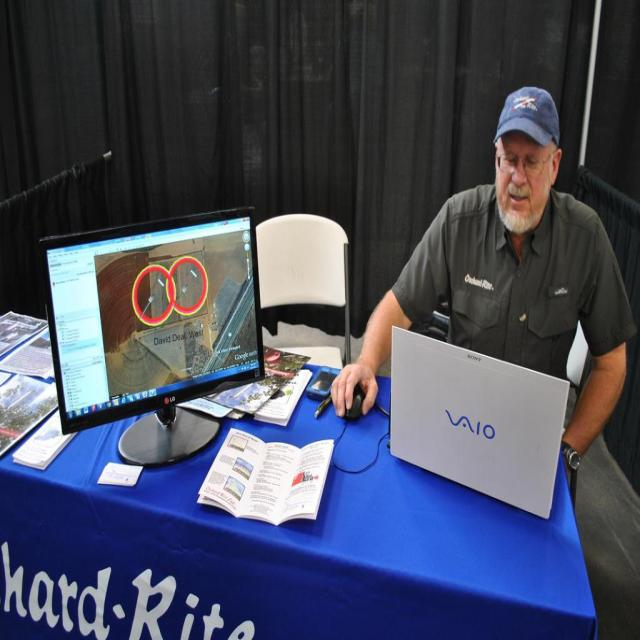book: (202, 432, 337, 519)
hat: (494, 85, 561, 150)
komputer: (41, 209, 264, 466)
laptop: (392, 332, 572, 525)
